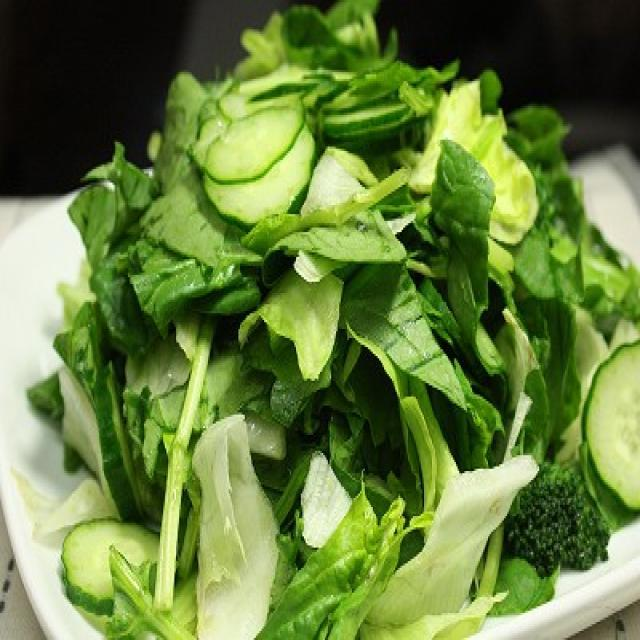Green Salad: (56, 1, 630, 634)
